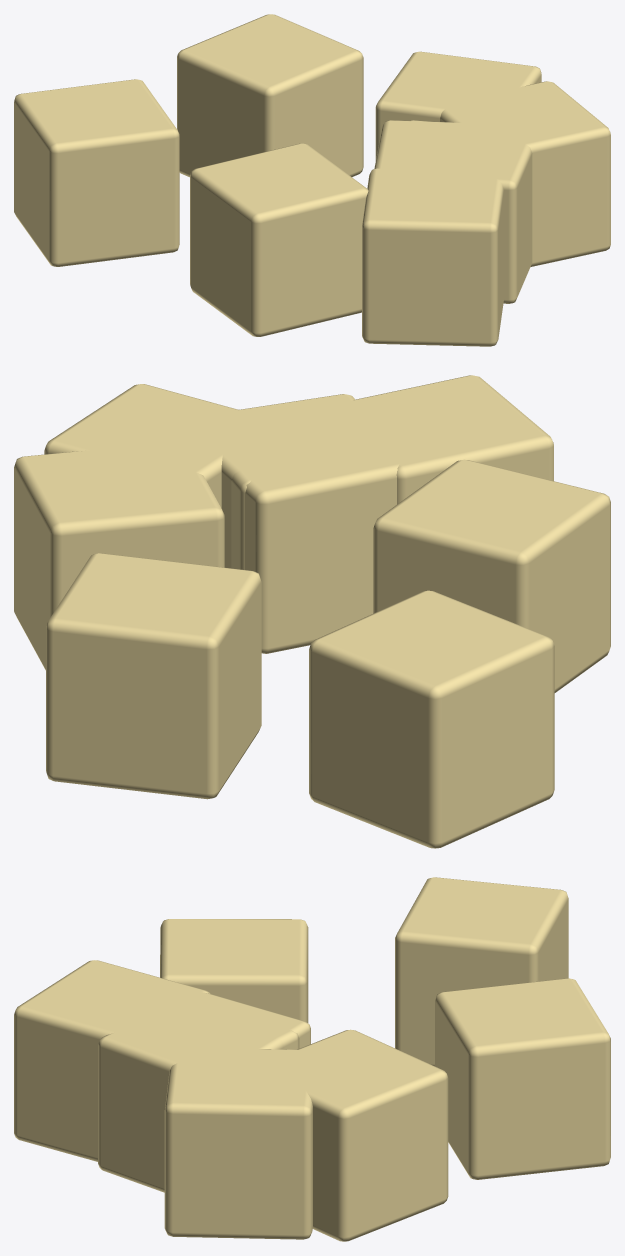
Rendered from Potato_Chopped.glb.
3 renders of one model, top to bottom at view 1: azimuth 30°, elevation 25°; view 2: azimuth 150°, elevation 25°; view 3: azimuth 270°, elevation 25°, orthographic. The views are drawn at different scales.
Visible parts, largest first — view 1: Potato_Chopped; view 2: Potato_Chopped; view 3: Potato_Chopped.
Boxes of the visible parts, x1,y1,x2,y2 form: Potato_Chopped: (14, 14, 610, 346); Potato_Chopped: (14, 375, 610, 848); Potato_Chopped: (14, 877, 610, 1241).
Bounding box in the file's own units: 0.0989 × 0.026 × 0.105.
